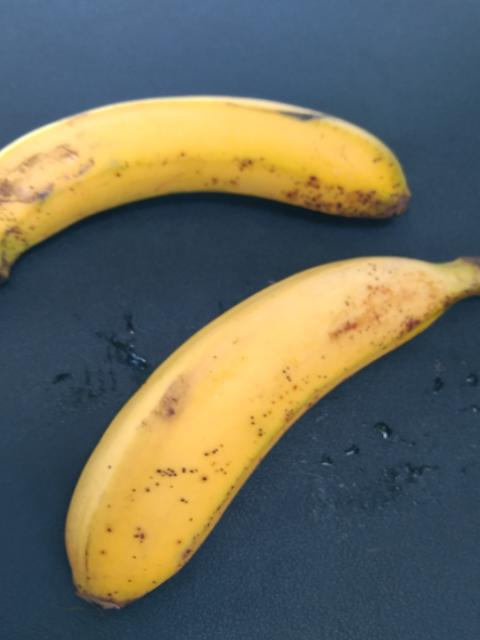ripe: (53, 235, 461, 626), (0, 76, 429, 273)
